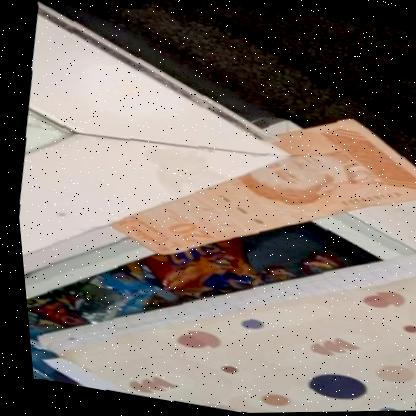twenty-front-vef: (86, 73, 416, 306)
